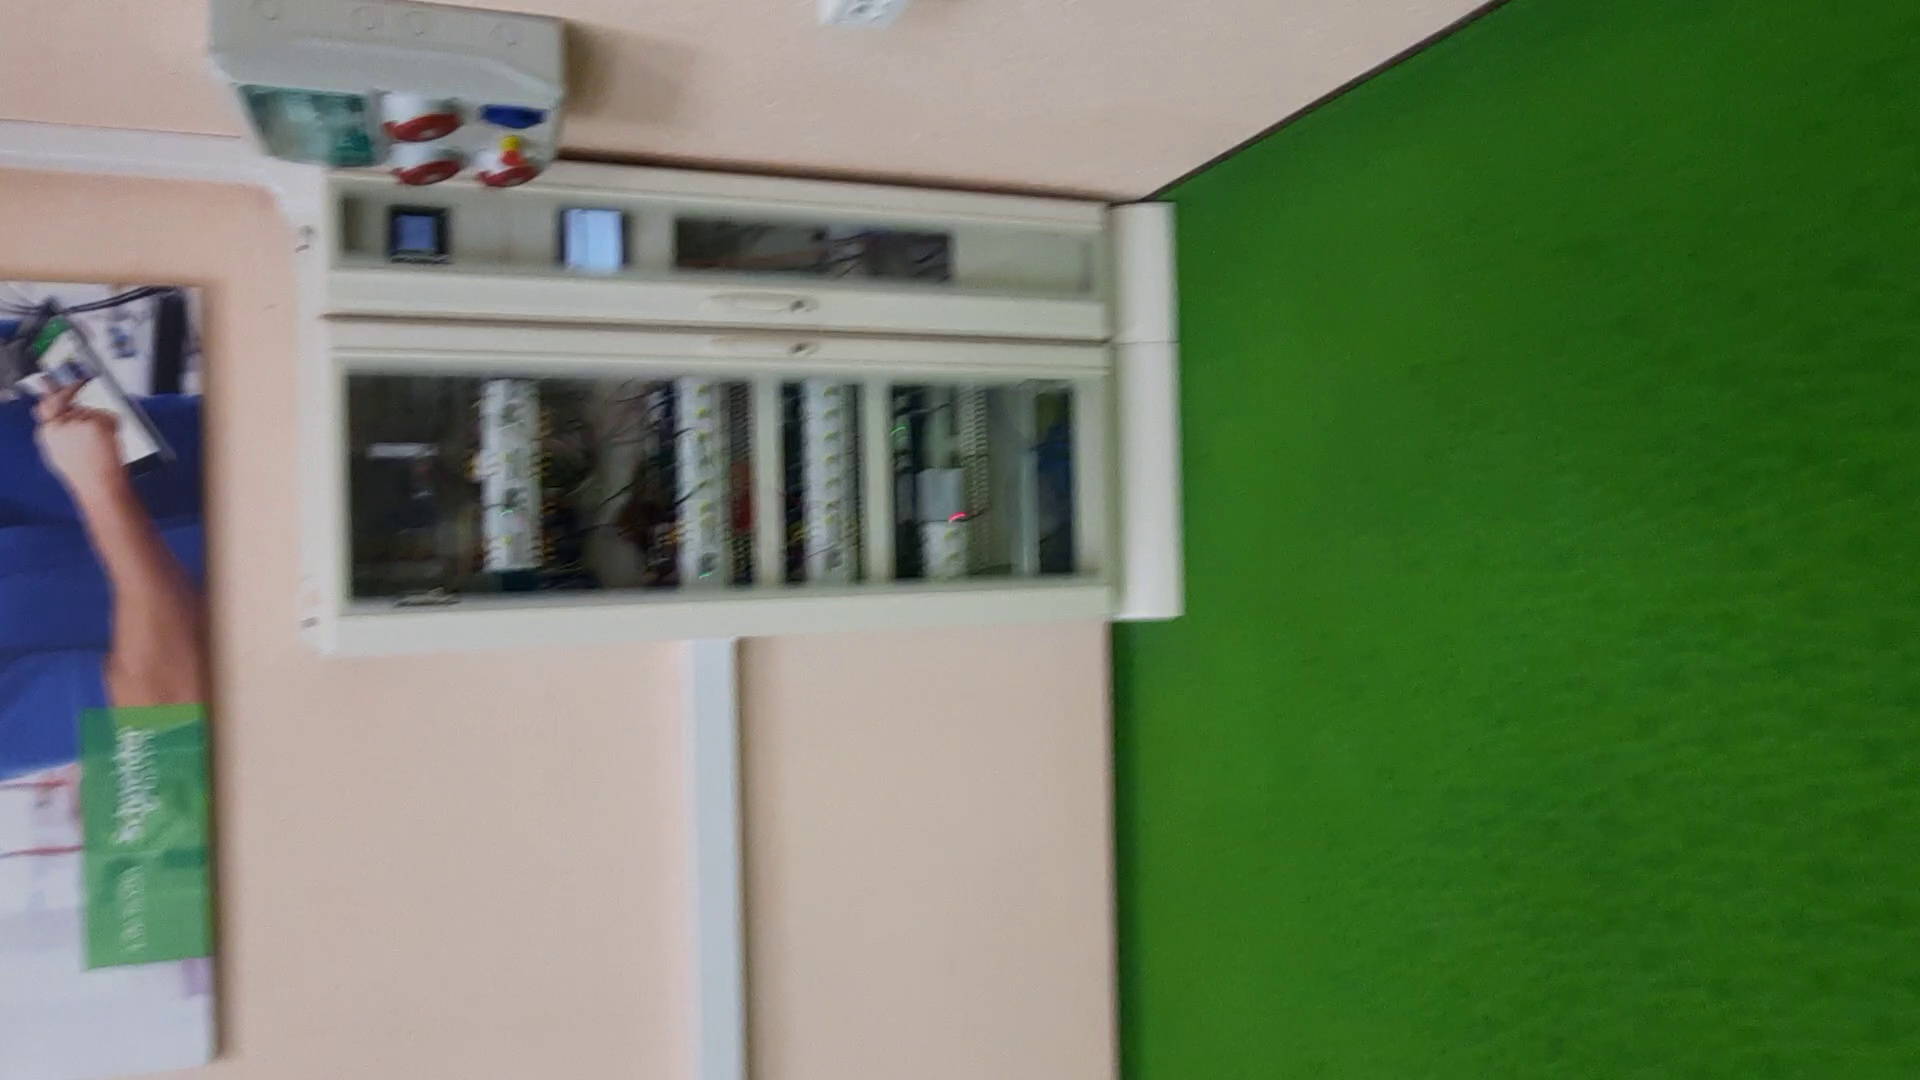stand1: (309, 170, 1188, 645)
